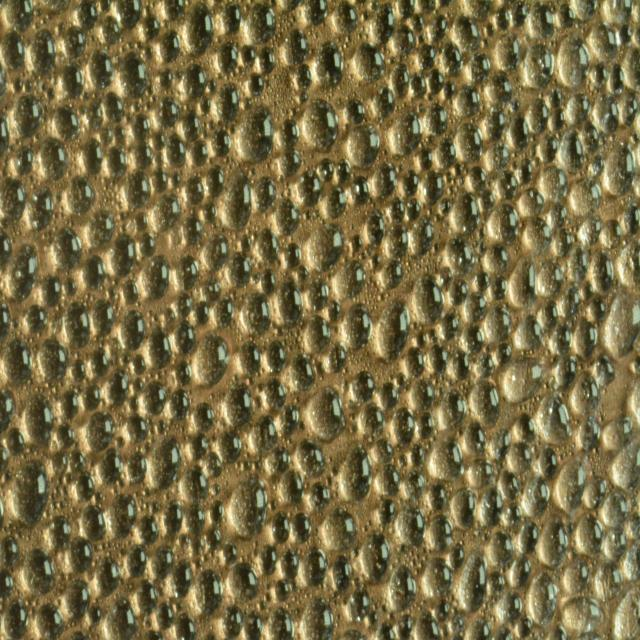dr: (234, 100, 276, 164), (230, 474, 269, 541), (12, 460, 50, 527), (606, 292, 640, 362), (336, 442, 374, 504), (378, 293, 410, 365), (193, 329, 230, 390), (499, 356, 544, 404), (536, 390, 575, 445), (6, 241, 40, 304), (307, 386, 345, 442), (301, 99, 341, 152), (178, 3, 216, 58), (220, 169, 252, 231), (307, 223, 345, 274), (557, 36, 590, 89), (410, 273, 443, 326), (150, 435, 181, 491), (602, 142, 634, 196), (528, 572, 557, 630), (22, 547, 57, 594), (461, 550, 487, 613), (320, 508, 358, 551), (509, 255, 538, 311), (26, 394, 56, 448), (560, 597, 606, 632), (556, 456, 584, 513), (428, 438, 464, 482), (117, 52, 151, 98), (104, 593, 137, 640), (359, 532, 390, 582), (346, 126, 381, 170), (50, 226, 82, 274), (536, 517, 568, 565), (343, 301, 373, 352), (242, 2, 276, 46), (300, 596, 334, 640), (313, 41, 344, 89), (387, 562, 416, 612), (140, 255, 172, 300), (353, 40, 385, 85), (108, 492, 138, 540), (390, 111, 422, 156), (0, 177, 28, 228), (13, 92, 44, 138), (150, 192, 183, 235), (587, 249, 615, 299), (468, 381, 499, 426), (28, 28, 57, 76), (512, 316, 545, 357), (2, 338, 32, 383), (26, 186, 55, 232), (194, 568, 223, 614), (85, 207, 116, 250), (39, 138, 69, 182), (239, 294, 272, 334), (423, 557, 453, 601), (451, 190, 481, 234), (526, 43, 554, 90), (486, 203, 518, 244), (64, 175, 96, 215), (277, 279, 303, 328), (335, 260, 366, 301), (227, 561, 258, 602), (64, 301, 91, 348), (444, 234, 474, 276), (594, 562, 624, 604), (569, 179, 602, 217), (87, 49, 116, 92), (575, 513, 604, 556), (0, 31, 27, 77), (109, 234, 137, 278), (84, 413, 114, 453), (574, 372, 600, 418), (225, 383, 252, 427), (39, 339, 67, 381), (522, 478, 550, 520), (52, 103, 82, 142), (303, 315, 332, 355), (453, 122, 482, 162), (536, 258, 564, 299), (146, 326, 173, 368), (202, 233, 230, 273), (560, 129, 586, 172), (572, 319, 598, 362), (591, 23, 618, 64), (592, 94, 619, 135), (452, 14, 481, 52), (273, 197, 301, 236), (409, 215, 435, 257), (440, 390, 468, 429), (278, 467, 305, 507), (610, 448, 637, 488), (539, 166, 568, 203), (396, 507, 424, 545), (522, 220, 554, 253), (4, 0, 35, 34), (450, 490, 477, 529), (181, 464, 210, 500), (603, 415, 632, 451), (296, 167, 322, 207), (4, 598, 30, 638), (529, 4, 555, 44), (173, 254, 201, 291), (618, 242, 640, 289), (253, 227, 280, 265), (66, 579, 91, 620), (36, 604, 66, 638), (124, 170, 150, 209), (216, 82, 240, 124), (506, 442, 534, 478), (371, 4, 396, 44), (496, 32, 521, 72), (372, 160, 397, 200), (485, 306, 512, 343), (603, 491, 630, 528), (58, 61, 84, 99), (182, 63, 208, 101), (121, 310, 145, 351), (226, 251, 252, 288), (80, 504, 106, 541), (99, 448, 124, 486), (303, 548, 328, 586), (410, 375, 435, 413), (480, 488, 505, 526), (613, 90, 640, 125), (266, 606, 295, 638), (82, 253, 107, 290), (290, 354, 315, 391), (487, 532, 514, 566), (252, 175, 276, 213), (391, 406, 415, 444), (578, 416, 602, 454), (360, 404, 386, 439), (564, 560, 590, 595), (305, 276, 330, 312), (96, 558, 121, 594), (428, 516, 453, 552), (81, 137, 104, 176), (422, 102, 448, 136), (622, 44, 640, 93), (566, 247, 588, 287), (104, 145, 129, 180), (284, 30, 309, 65), (602, 528, 627, 563), (239, 340, 262, 378), (216, 41, 240, 77), (332, 2, 359, 34), (456, 84, 480, 120), (518, 190, 545, 222), (463, 420, 487, 456), (486, 72, 512, 105), (435, 135, 458, 172), (301, 443, 325, 478), (480, 246, 510, 274), (466, 458, 494, 488), (93, 300, 115, 338), (442, 40, 464, 78), (525, 98, 547, 136), (159, 29, 182, 65), (254, 416, 277, 452), (349, 585, 372, 621), (62, 26, 87, 59), (102, 90, 126, 124), (376, 464, 400, 498), (464, 290, 488, 324), (165, 132, 187, 169), (116, 0, 143, 30), (40, 272, 63, 307), (125, 450, 148, 485), (350, 371, 375, 403), (583, 477, 608, 509), (144, 380, 166, 416), (171, 561, 193, 597), (554, 354, 578, 387), (324, 186, 347, 220), (218, 427, 241, 461), (385, 224, 408, 258), (165, 499, 185, 538), (414, 610, 440, 640), (107, 369, 128, 406), (70, 536, 92, 571), (365, 210, 385, 248), (221, 1, 244, 34), (152, 544, 175, 577), (307, 481, 330, 514), (137, 580, 158, 616), (508, 115, 529, 151), (182, 110, 204, 144), (174, 320, 196, 354), (323, 343, 347, 374), (221, 605, 244, 637), (550, 323, 573, 355), (462, 323, 485, 355), (484, 144, 510, 172), (49, 514, 71, 547), (509, 554, 531, 587), (566, 95, 591, 124), (266, 337, 286, 373), (128, 544, 148, 580), (600, 219, 624, 249), (168, 388, 191, 419), (137, 514, 160, 545), (576, 218, 602, 245), (214, 296, 235, 329), (389, 64, 410, 97), (469, 52, 490, 85), (13, 145, 36, 175), (210, 128, 232, 159), (26, 305, 48, 336), (277, 119, 299, 150), (498, 469, 520, 500), (84, 97, 104, 131), (538, 444, 558, 478), (379, 261, 404, 288), (205, 166, 226, 198), (278, 150, 302, 178), (570, 0, 598, 24), (422, 172, 443, 204), (464, 616, 492, 640), (535, 133, 558, 162), (333, 553, 351, 590), (131, 140, 153, 170), (184, 176, 206, 206), (59, 388, 79, 421), (186, 502, 206, 535), (403, 472, 425, 502), (484, 107, 504, 140), (496, 169, 518, 199), (595, 354, 615, 387), (452, 347, 472, 380), (430, 343, 450, 376), (492, 427, 512, 460), (101, 15, 122, 46), (160, 97, 181, 128), (378, 379, 399, 410), (271, 510, 290, 544), (125, 414, 148, 442), (266, 379, 286, 411), (244, 608, 264, 640), (562, 286, 582, 318), (515, 411, 535, 443), (291, 510, 312, 540), (553, 230, 574, 260), (405, 348, 426, 378), (344, 98, 367, 125), (396, 25, 416, 56), (140, 14, 162, 42), (174, 612, 196, 640), (91, 346, 110, 378), (0, 535, 19, 567), (375, 86, 394, 118), (76, 0, 96, 30), (305, 0, 329, 25), (279, 404, 299, 434), (194, 402, 214, 432), (518, 522, 538, 552), (623, 201, 640, 236), (606, 63, 624, 96), (279, 548, 300, 576), (416, 42, 437, 70), (467, 165, 488, 193), (555, 3, 575, 32), (502, 591, 522, 620), (75, 472, 94, 502), (258, 544, 277, 574), (486, 569, 505, 599), (448, 278, 469, 305), (131, 113, 151, 141), (351, 176, 371, 204), (428, 482, 448, 510), (414, 412, 434, 440), (184, 215, 202, 246), (440, 314, 460, 341), (257, 47, 276, 75), (547, 204, 568, 229), (190, 433, 208, 462), (582, 124, 600, 153), (516, 158, 534, 187), (476, 349, 494, 378), (588, 295, 608, 321), (6, 429, 25, 456), (162, 0, 185, 22), (247, 70, 265, 98), (259, 268, 277, 296), (540, 300, 558, 328), (334, 158, 353, 184), (377, 498, 396, 524), (430, 14, 449, 40), (157, 602, 174, 630), (82, 384, 101, 409), (139, 231, 157, 257), (295, 64, 313, 90), (284, 242, 302, 268), (204, 276, 222, 302), (174, 359, 192, 385), (51, 449, 69, 475), (205, 450, 223, 476), (272, 445, 290, 471), (175, 293, 192, 320), (389, 197, 406, 224), (417, 145, 434, 172), (121, 280, 140, 304), (56, 423, 74, 448), (191, 138, 207, 166), (69, 448, 86, 474), (448, 543, 465, 569), (402, 170, 419, 196), (0, 569, 15, 598), (397, 612, 413, 639), (411, 71, 427, 98), (490, 274, 508, 298), (149, 129, 166, 154), (194, 300, 210, 326), (428, 67, 444, 93), (548, 106, 564, 132), (480, 187, 496, 213), (201, 201, 219, 224), (376, 441, 394, 464), (404, 196, 421, 220), (495, 342, 512, 366), (319, 157, 335, 182), (590, 66, 608, 88), (239, 46, 256, 69), (151, 168, 168, 191), (206, 526, 222, 550), (410, 440, 424, 467), (512, 1, 527, 26), (434, 600, 450, 623), (158, 67, 175, 88), (71, 359, 86, 382), (495, 7, 510, 30), (377, 620, 394, 640), (134, 211, 150, 232), (395, 1, 415, 17), (473, 270, 489, 290), (443, 79, 458, 100), (276, 578, 289, 602), (132, 354, 146, 376), (210, 500, 223, 523), (328, 301, 342, 322), (620, 22, 633, 44), (548, 88, 561, 108), (64, 278, 78, 296), (127, 396, 139, 411), (132, 378, 143, 394)
